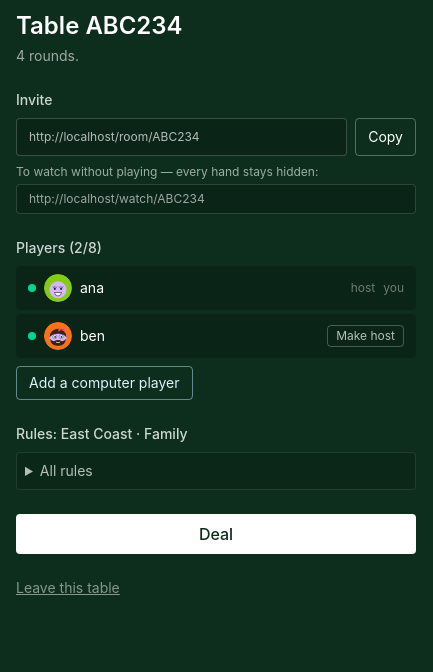
handing hosting on › surfaces a refusal
Click the button with aria-label "Make ben the host" at coordinates (366, 336), box [327, 325, 404, 347]
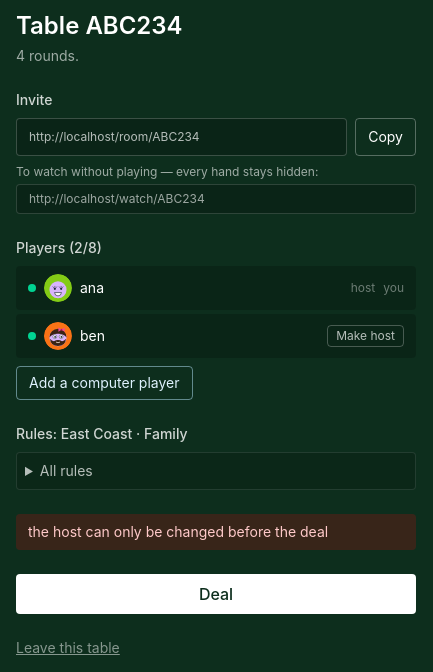
Result: the message shows "before the deal" at [28, 523, 328, 540]
